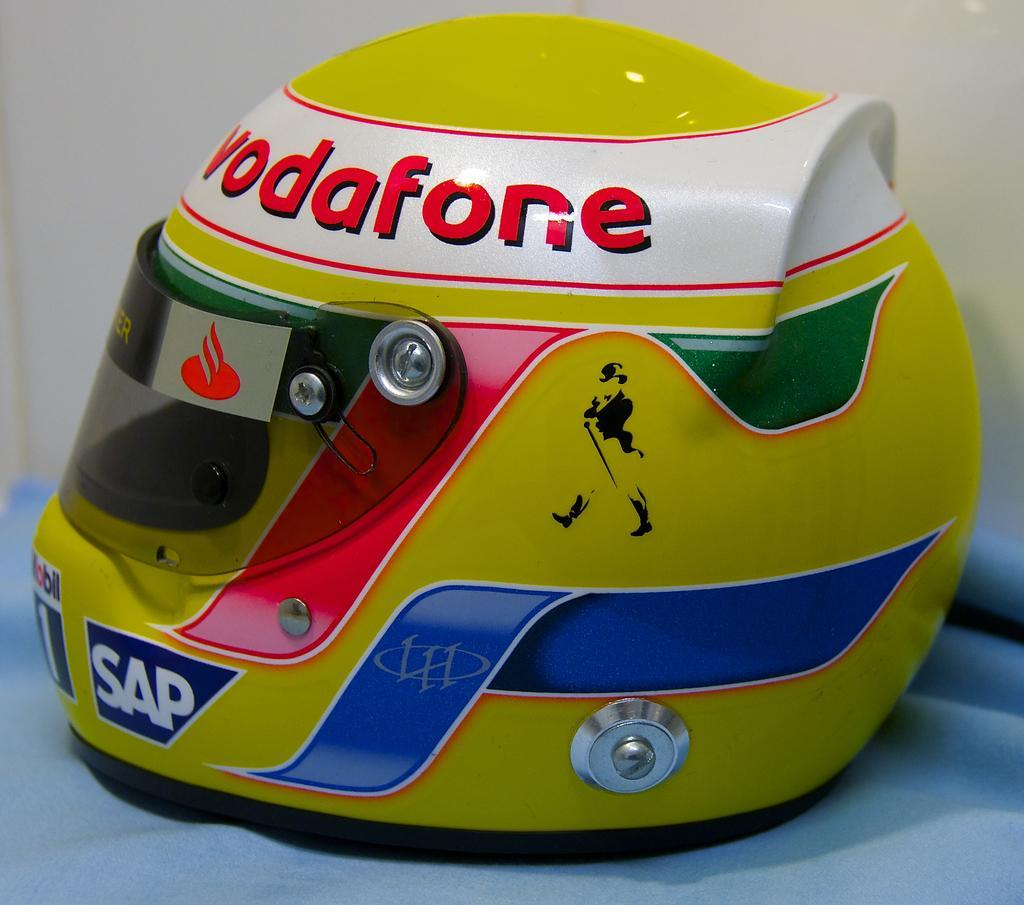helmet: (29, 8, 984, 862)
